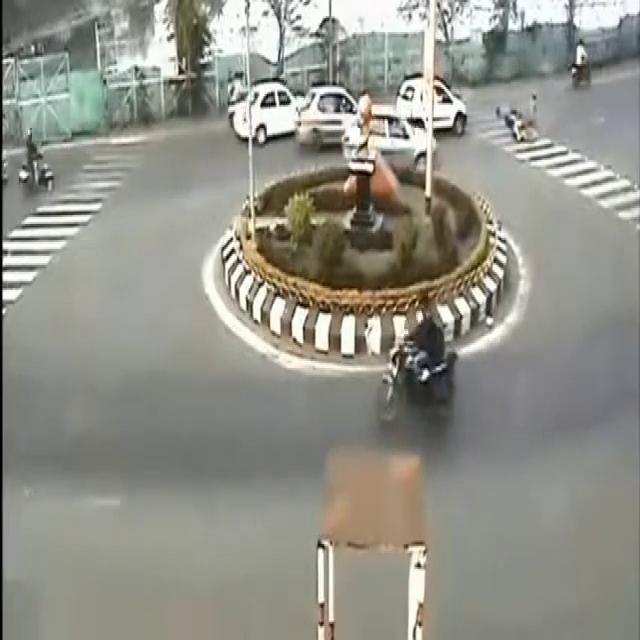accident: (493, 72, 561, 162)
